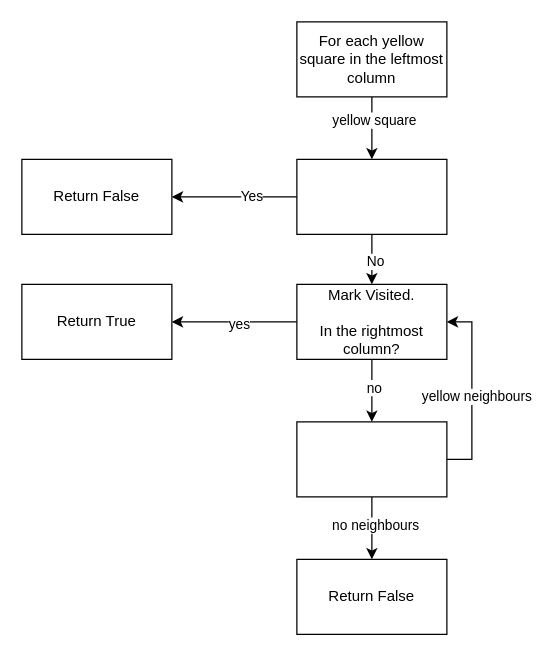
The diagram is 553 pixels wide and 656 high, and some of its shapes have lost their labels. Each missing label, with the box of its shape:
Already Visited: (296, 158, 447, 234)
Find all yellow neighbours to this square: (296, 421, 447, 497)
